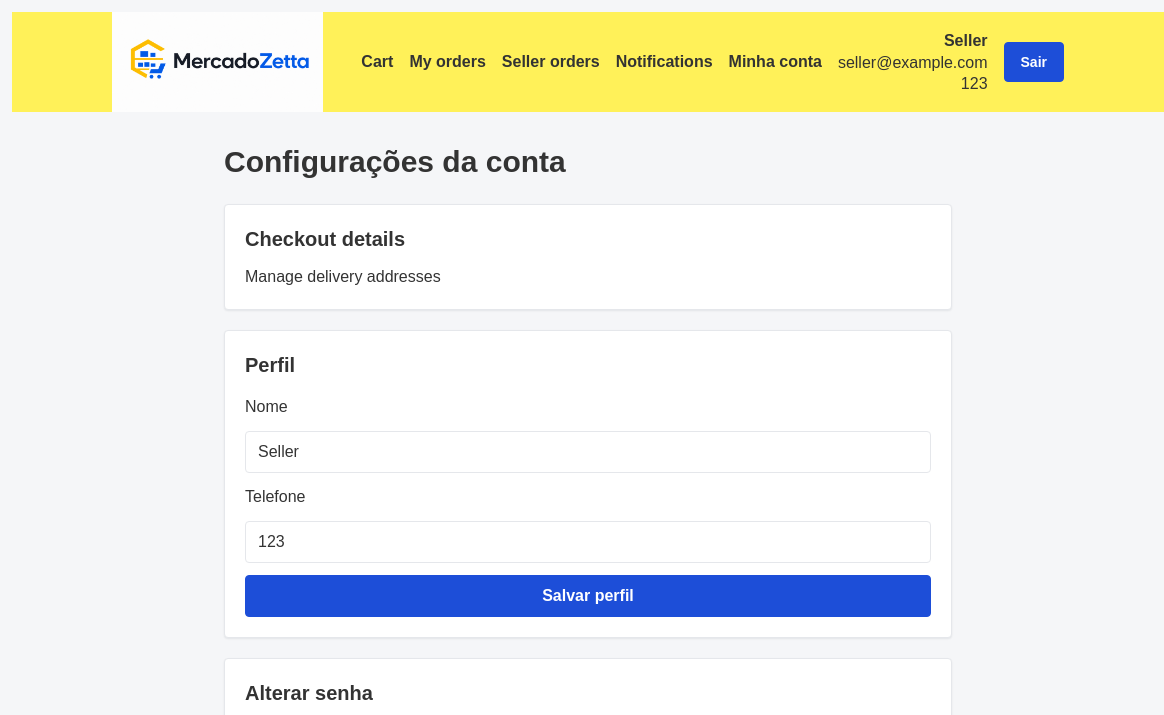
it: AccountSettings › shows an API profile error without replacing the current identity
The width and height of the screenshot is (1164, 715).
Click the button "Salvar perfil": coordinates (588, 596) x1=245 y1=575 x2=931 y2=617
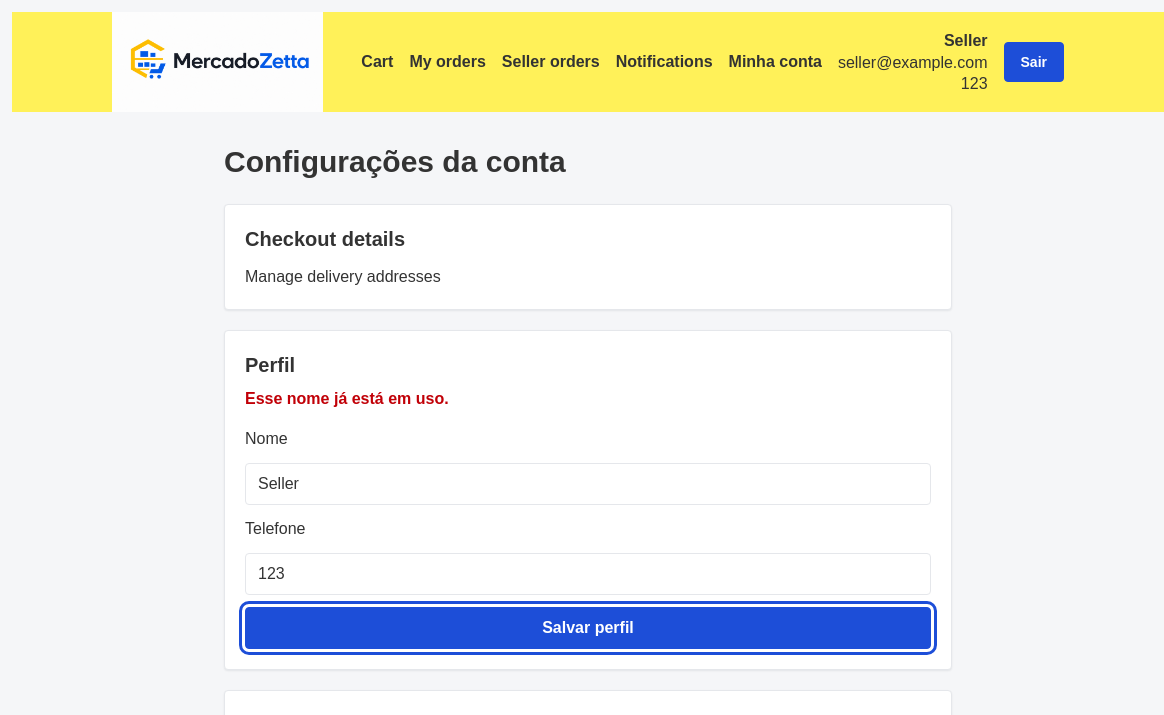
Now the message reads "Esse nome já está em uso.", box x1=245 y1=390 x2=449 y2=407
